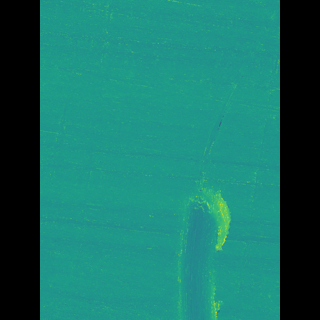Loch: (185, 7, 249, 187), (168, 183, 214, 320)
